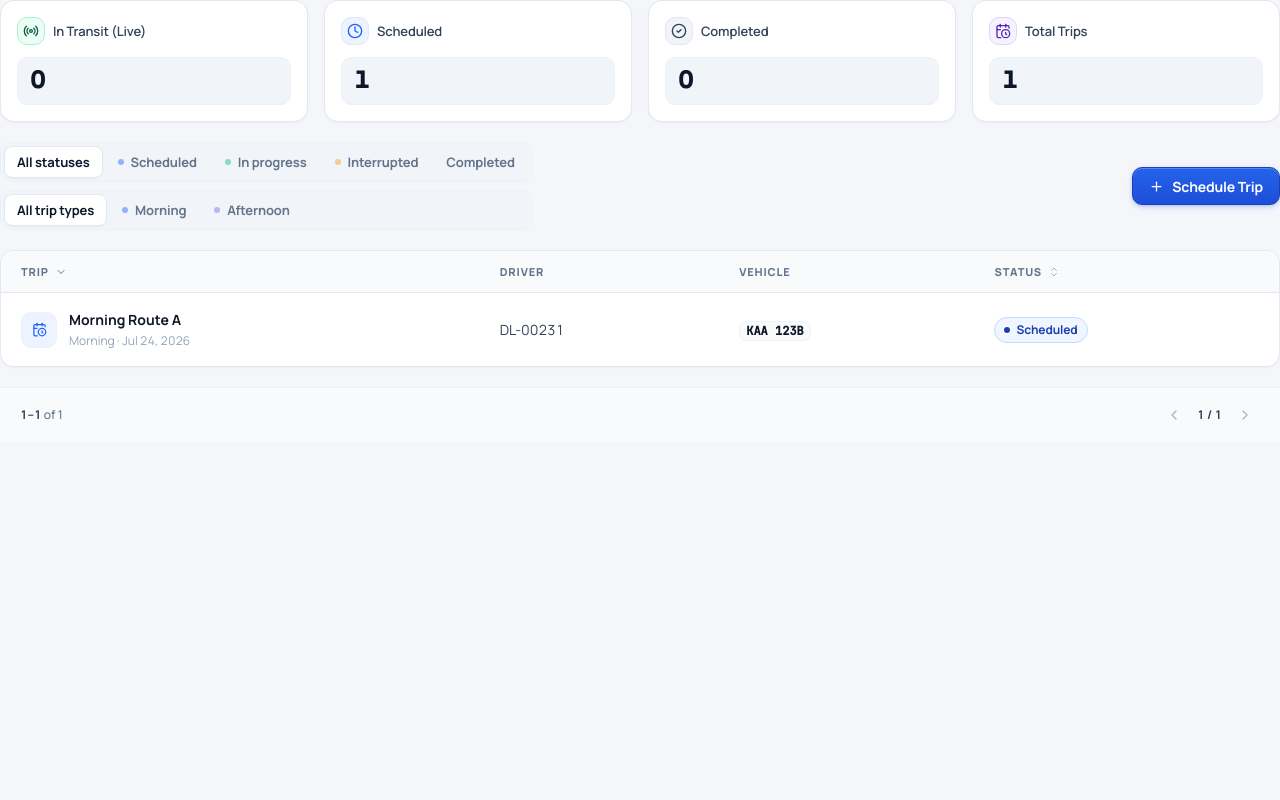
Test case: TripsPage › lets a founder start a scheduled trip from the detail drawer
The image size is (1280, 800).
Click the text "Morning Route A": (130, 320) top-left (69, 309), bottom-right (190, 331)
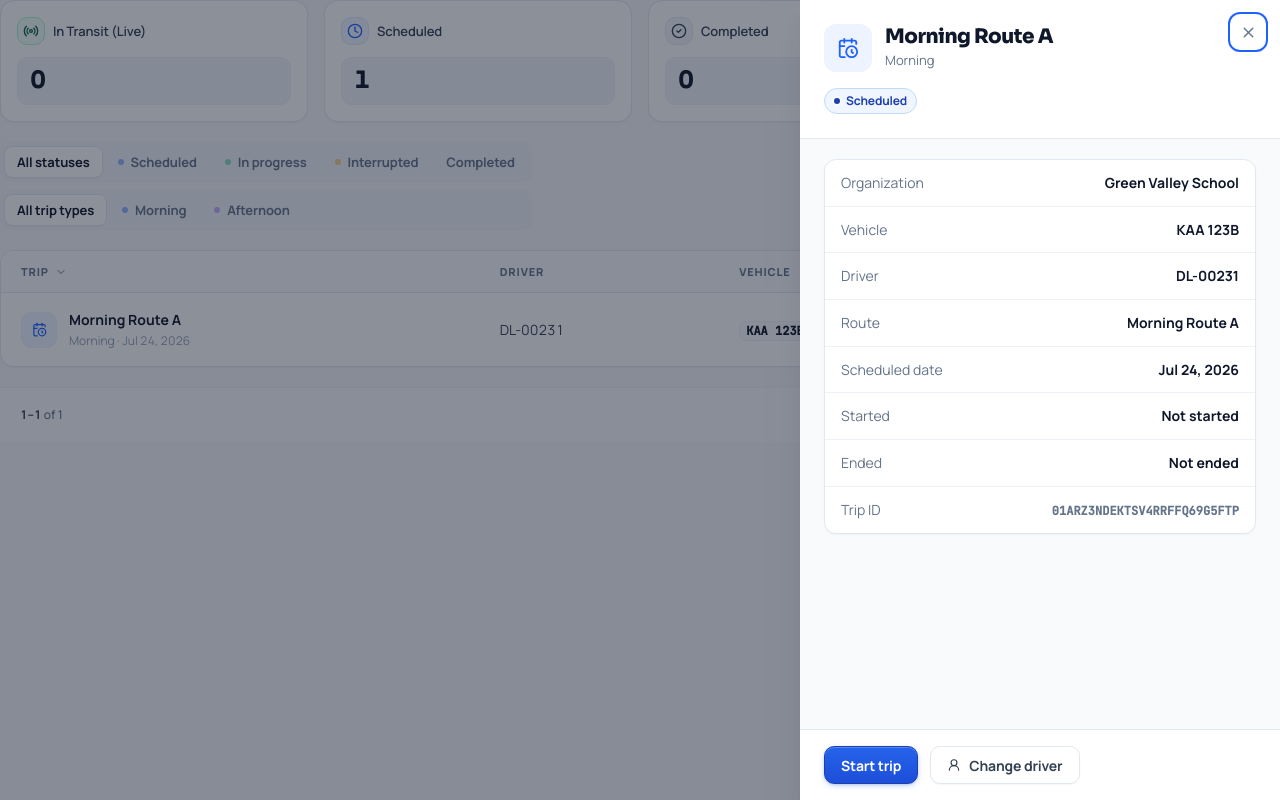
Click the button "Start trip": (871, 765) top-left (824, 746), bottom-right (918, 784)
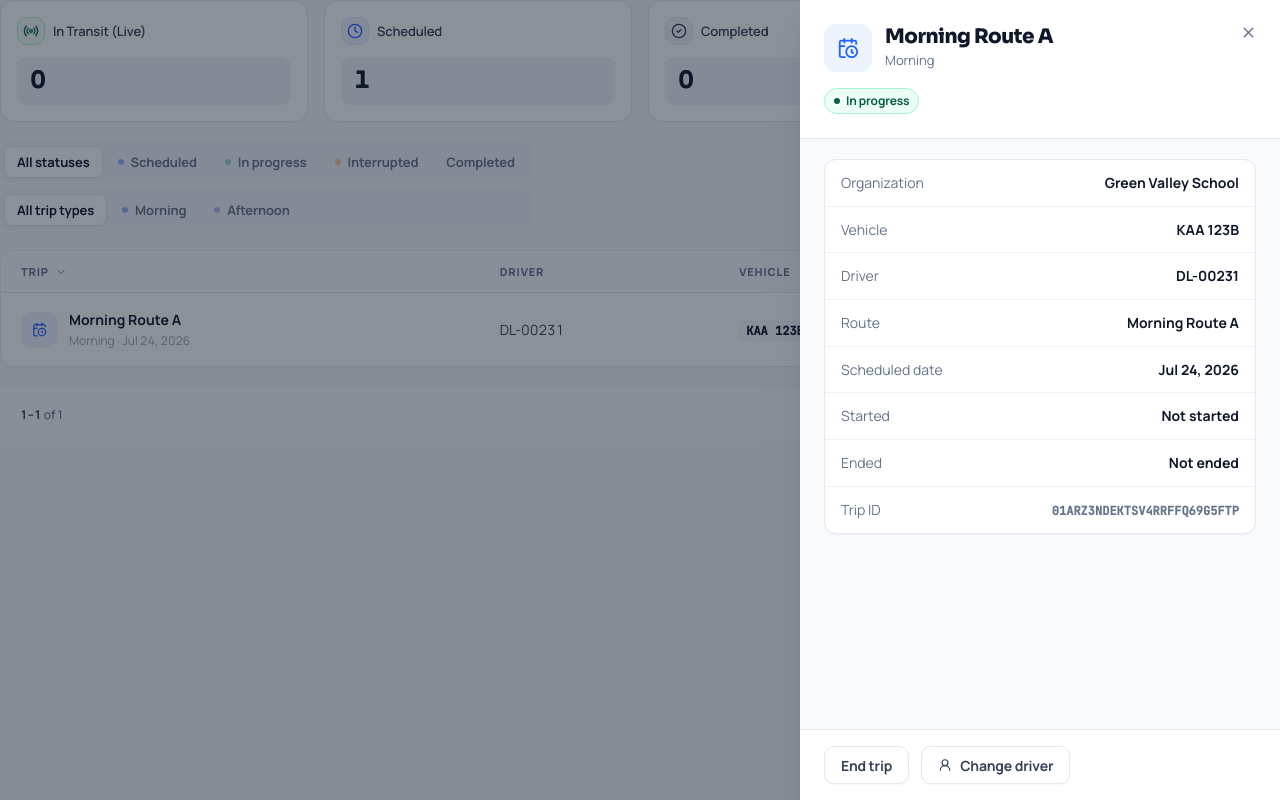
Check: the button "Start trip" is gone
Check: the button "End trip" is shown, box top-left (824, 746), bottom-right (909, 784)
